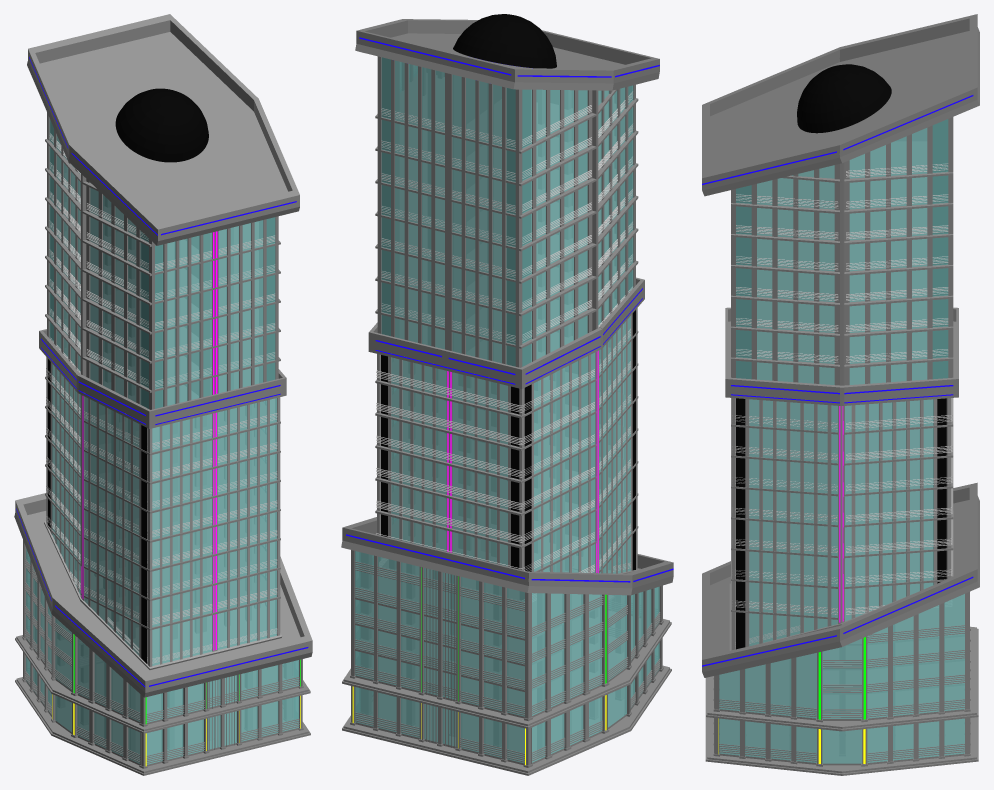
The model's file is scifi-building-18.glb.
The picture shows the model from 3 angles, left to right: view 1: azimuth 30°, elevation 25°; view 2: azimuth 150°, elevation 25°; view 3: azimuth 270°, elevation 25°; orthographic projection. The views are drawn at different scales.
Parts seen in each view (by area): view 1: Plane.029, Plane.022, Circle.002, Plane.032, Plane.028, Plane.019, Circle.003, Plane.035, Plane.024, Plane.021, Sphere.003, Plane.023 (+3 smaller); view 2: Plane.022, Plane.029, Plane.032, Plane.019, Plane.028, Plane.035, Circle.002, Plane.024, Circle.003, Plane.021, Plane.030, Sphere.003 (+3 smaller); view 3: Plane.022, Plane.029, Circle.002, Plane.019, Plane.032, Plane.028, Plane.035, Circle.003, Plane.024, Plane.021, Plane.030, Sphere.003 (+4 smaller).
Part boxes in pixels (x1,y1,x2,y2): Plane.029: (44,357,282,669); Plane.022: (39,112,286,428); Circle.002: (27,14,299,245); Plane.032: (15,540,310,733); Plane.028: (45,376,280,601); Plane.019: (45,168,280,404); Circle.003: (14,493,312,697); Plane.035: (15,652,310,775); Plane.024: (46,368,277,624); Plane.021: (49,162,275,387); Sphere.003: (115,88,208,162); Plane.023: (53,365,274,657); Plane.022: (368,56,644,388); Plane.029: (377,308,638,573); Plane.032: (342,550,671,728); Plane.019: (375,95,638,362); Plane.028: (375,329,638,571); Plane.035: (342,638,671,775); Circle.002: (355,19,659,90); Plane.024: (376,329,630,601); Circle.003: (341,517,673,595); Plane.021: (381,91,633,342); Plane.030: (355,560,620,691); Sphere.003: (453,14,556,68); Plane.022: (725,117,958,405); Plane.029: (729,398,953,650); Circle.002: (702,14,979,196); Plane.019: (731,177,953,385); Plane.032: (706,591,978,731); Plane.028: (731,398,953,588); Plane.035: (705,678,978,775); Circle.003: (702,482,979,677); Plane.024: (732,398,952,614); Plane.021: (736,194,948,362); Plane.030: (823,594,964,693); Sphere.003: (797,64,891,133).
Bounding box in the file's own units: 40 × 109 × 40.75.
